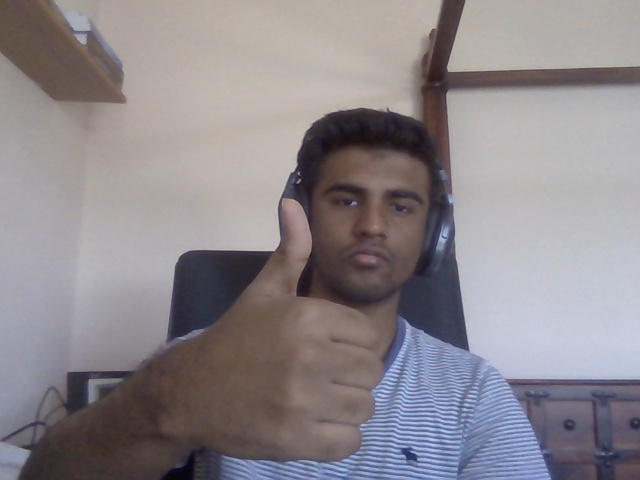Yes: (208, 195, 383, 462)
